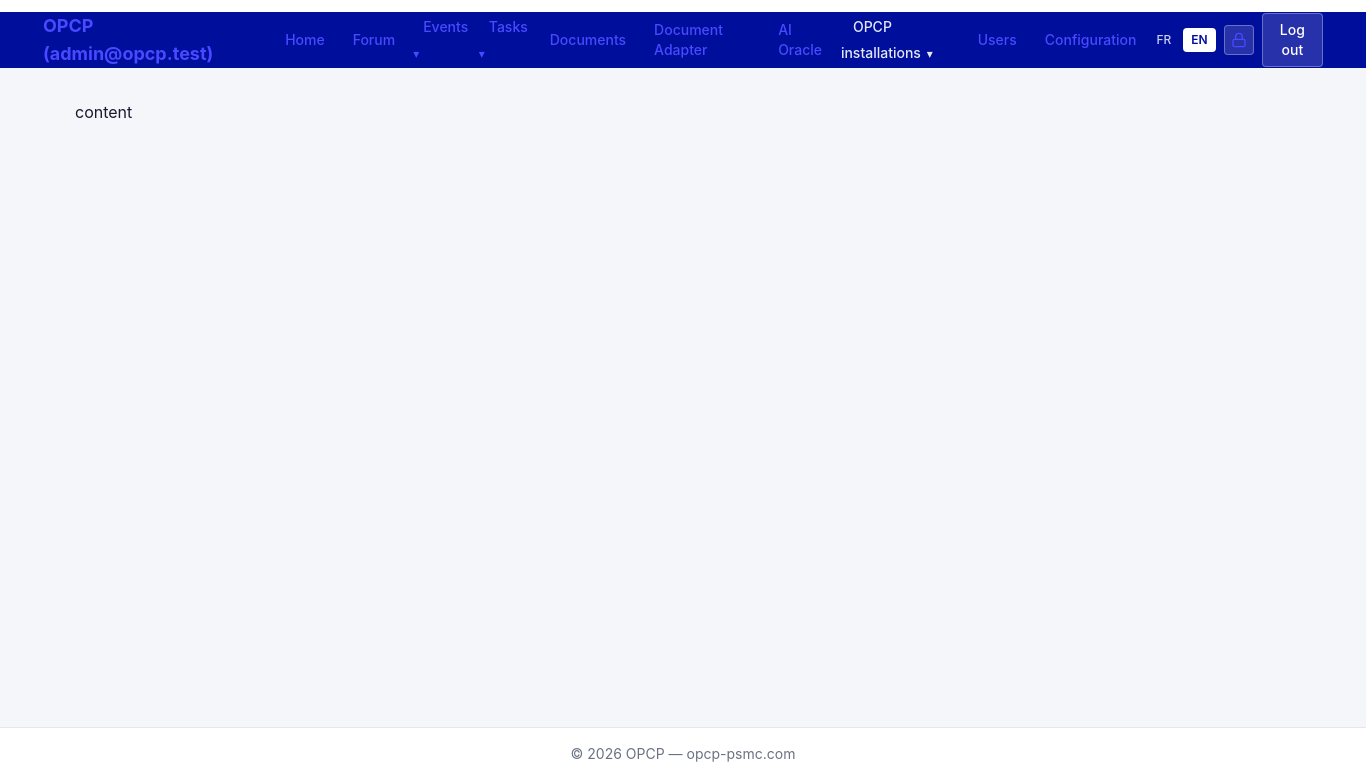
Bug Condition — RENDER_DESKTOP_NAV: Tasks item renders alongside Events › authenticated admin hovering Tasks reveals a "Manage tasks" link to /admin/tasks
Hover over the link "Tasks ▾" at (502, 27), box [477, 12, 528, 67]
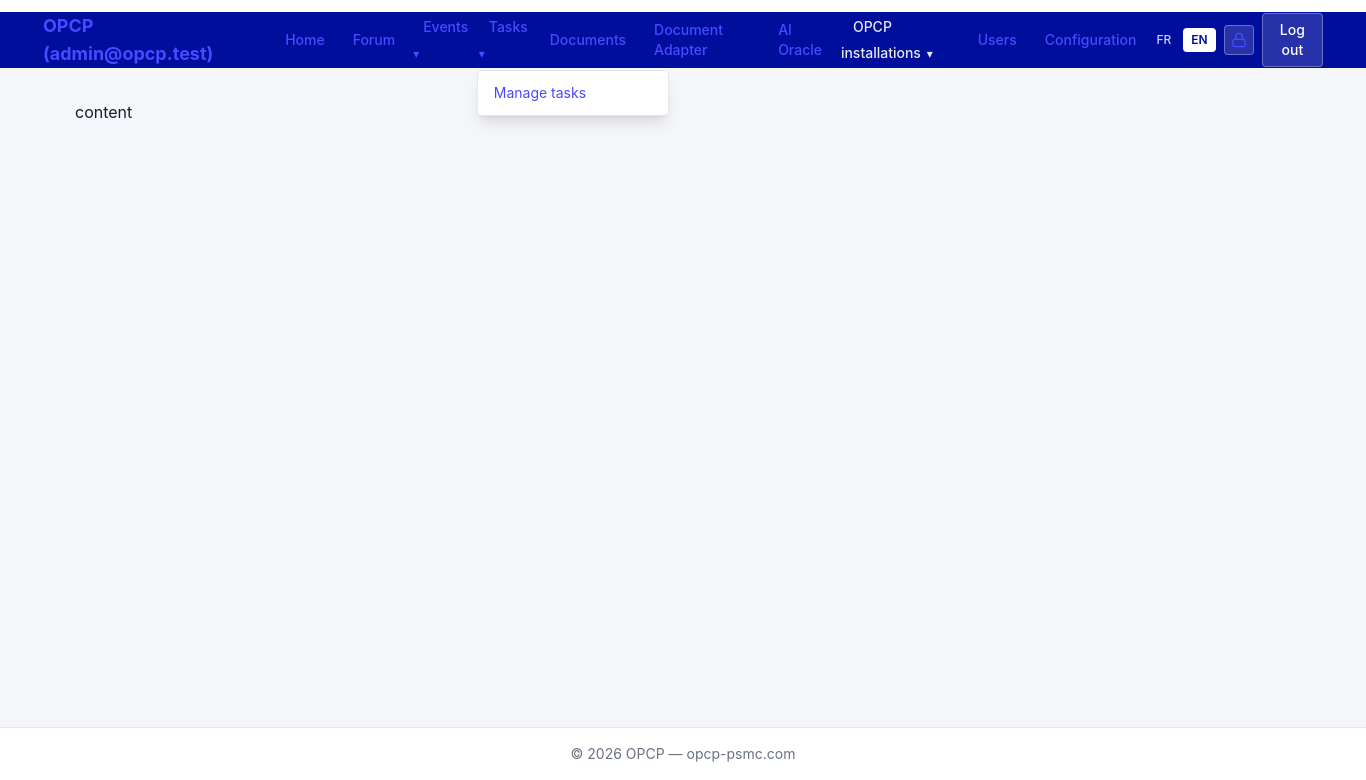
Expected: the link "Manage tasks" is shown, [494, 84, 586, 101]
